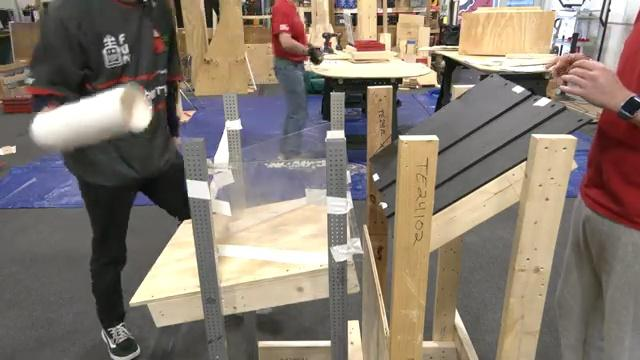CORAL: (28, 83, 153, 152)
